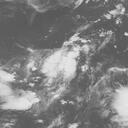cyclone: (38, 33, 90, 83)
